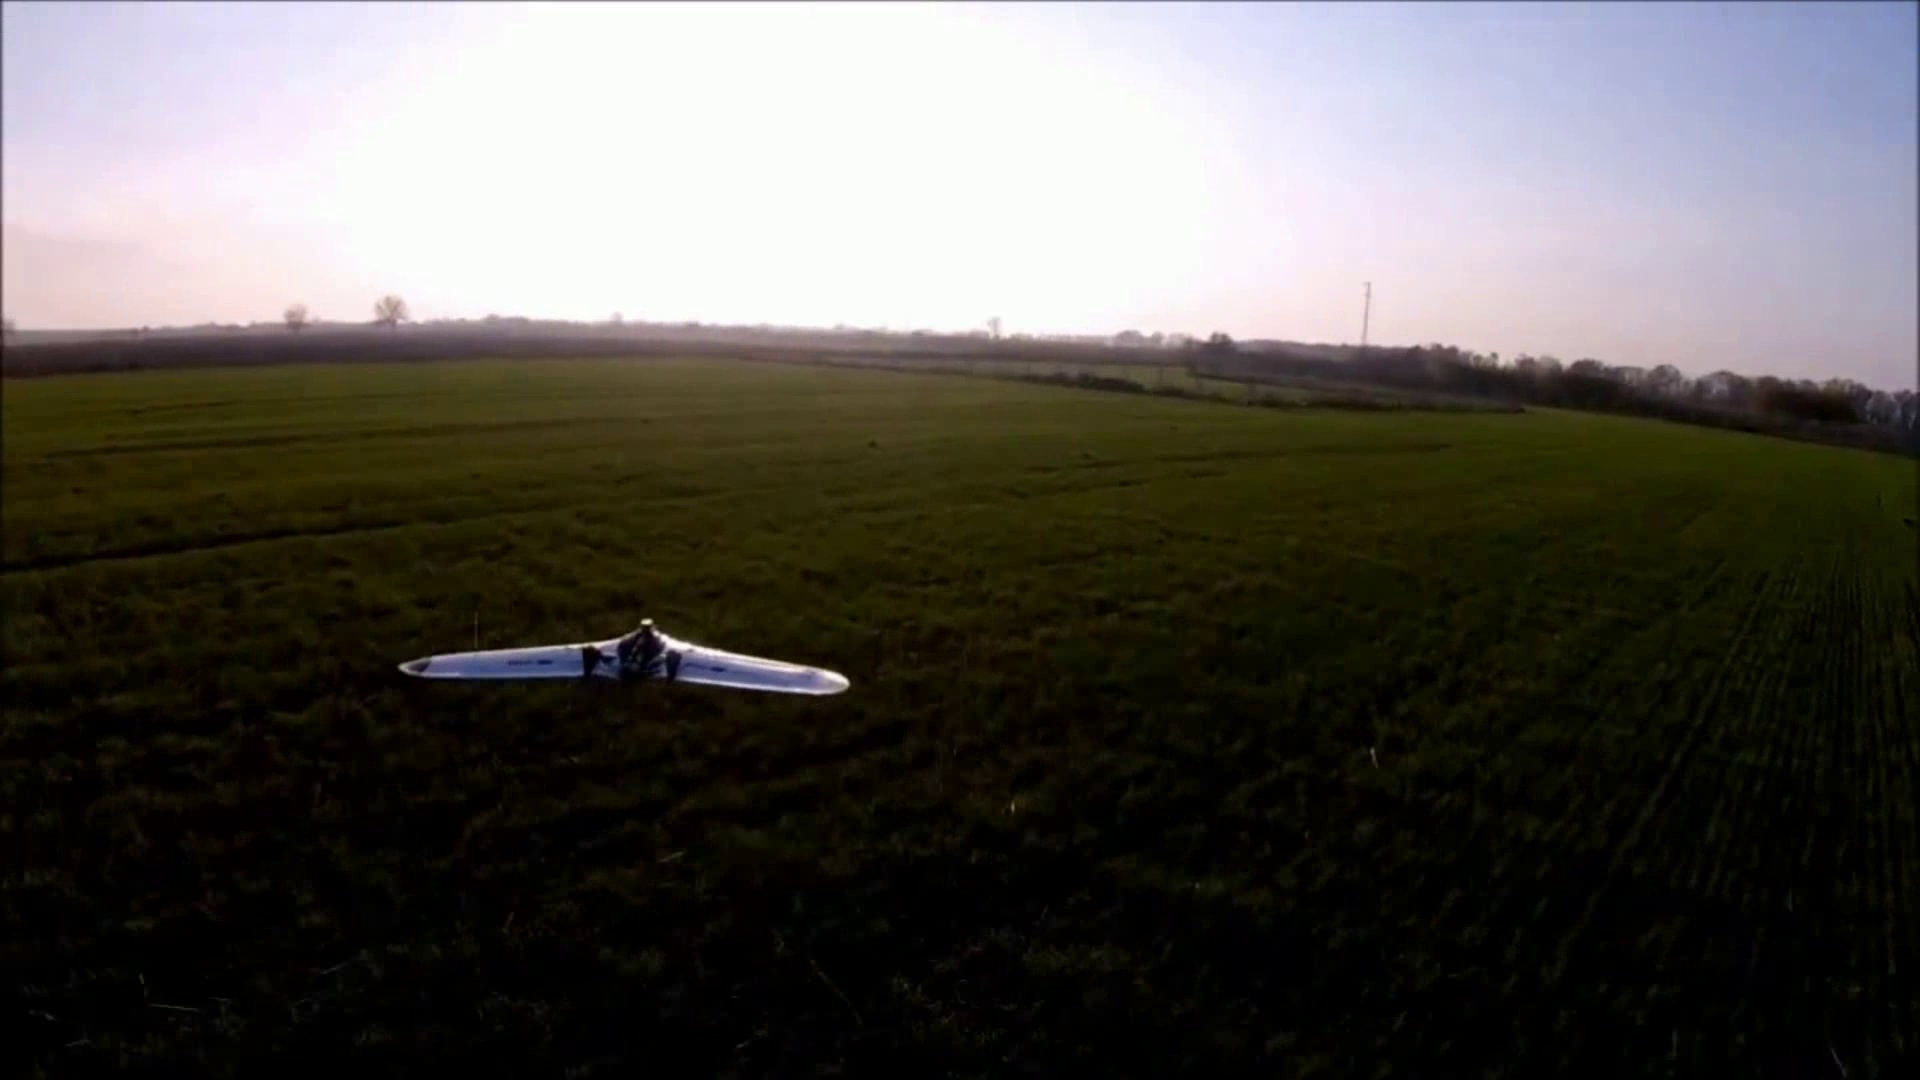airplane: (398, 616, 849, 699)
